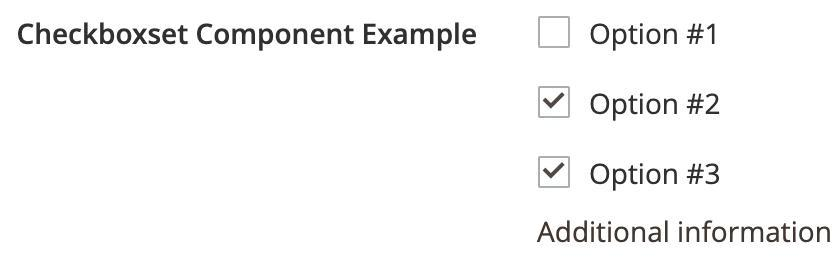checkbox: (539, 157, 570, 190), (539, 17, 570, 49), (540, 87, 571, 119)
label: (18, 17, 486, 54), (591, 160, 726, 193), (591, 22, 727, 53), (588, 91, 729, 119)
